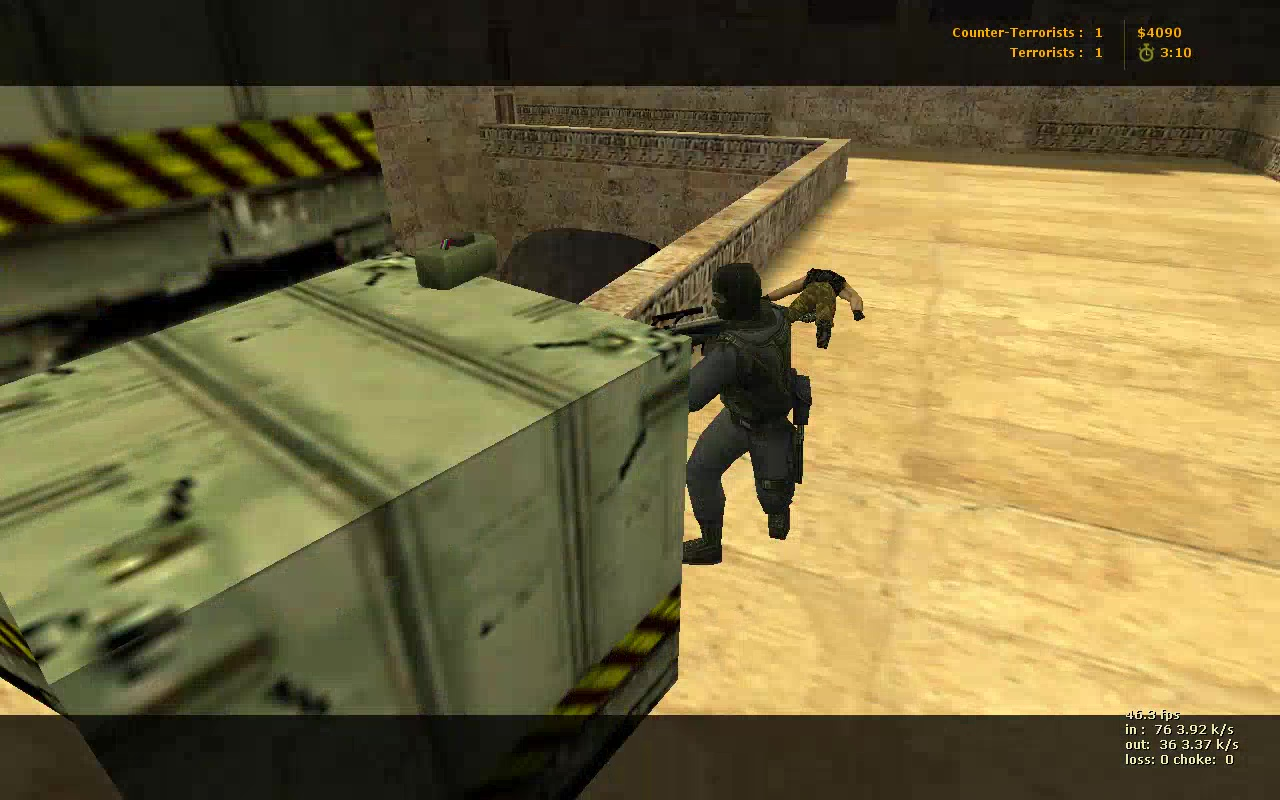ct: (644, 264, 813, 570)
